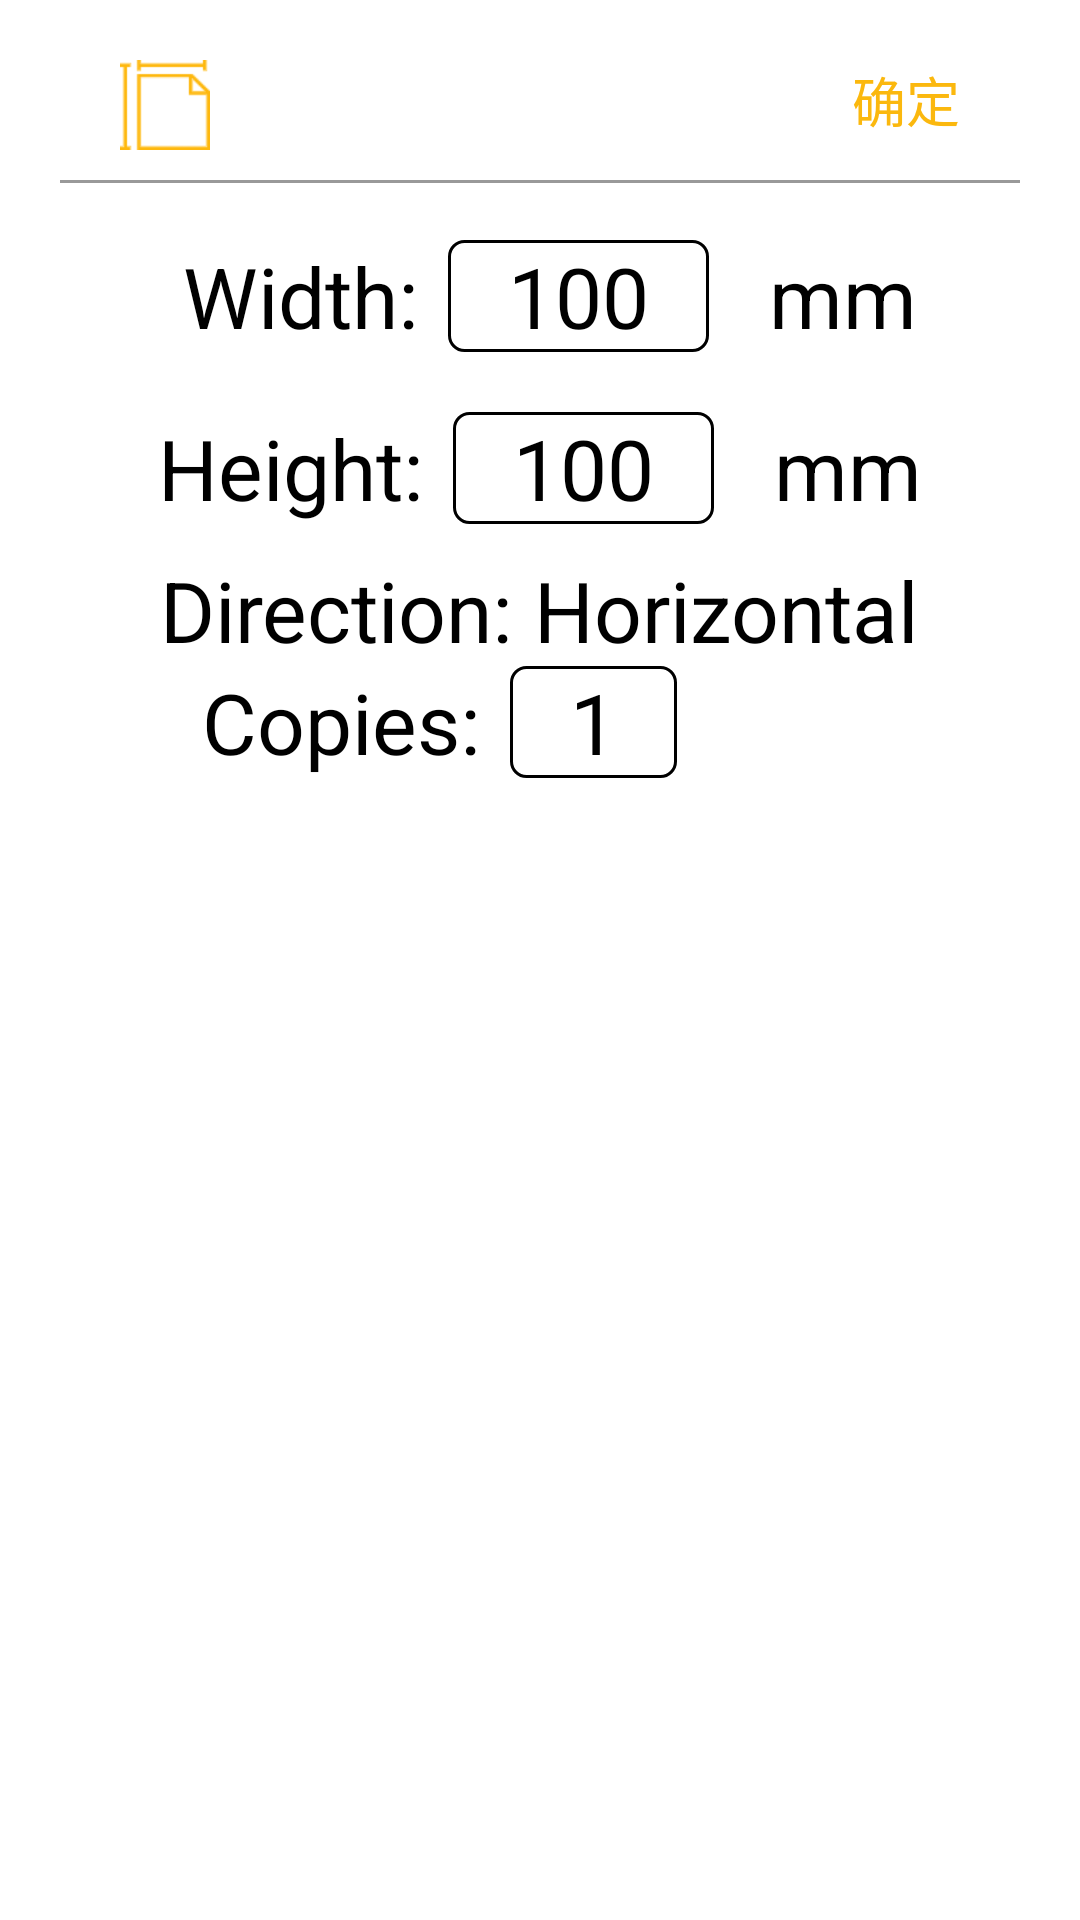

Where to tap for icons on this 1080px x 1920px app screen, as [x,y]:
papersize: [165,105]
